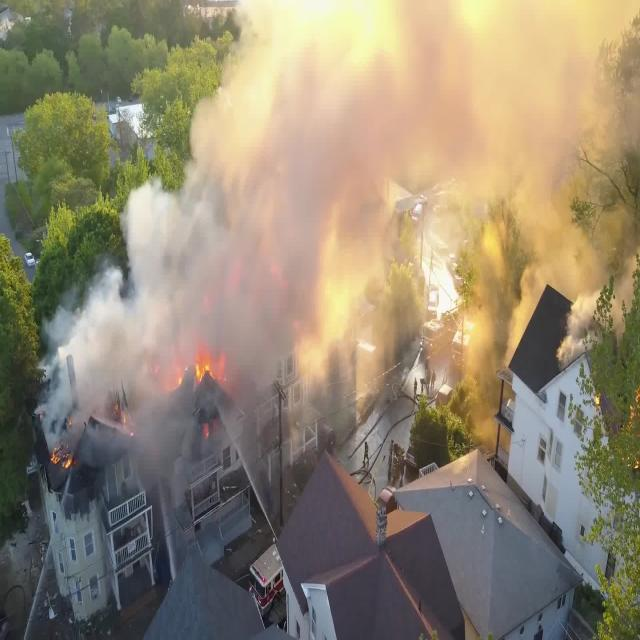Fire: (57, 314, 239, 482)
Smoke: (53, 0, 538, 447)
